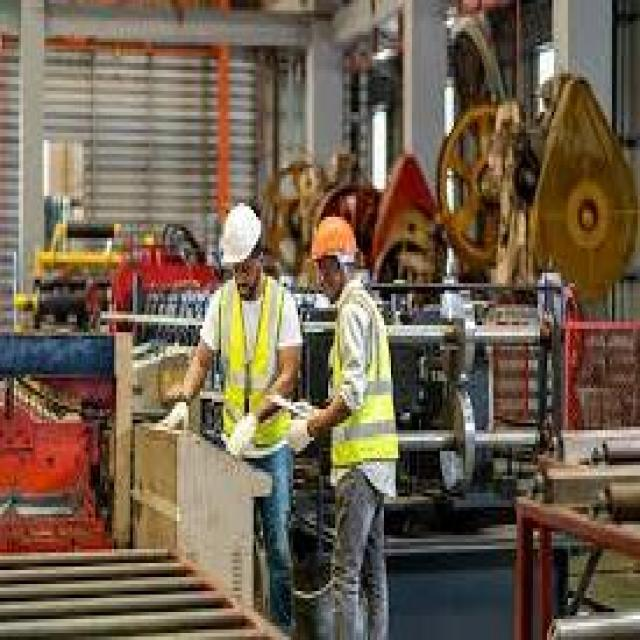Reflective-Jacket: (198, 269, 300, 476), (316, 283, 409, 497)
Safety-Helmet: (210, 192, 272, 276), (302, 206, 366, 280)
